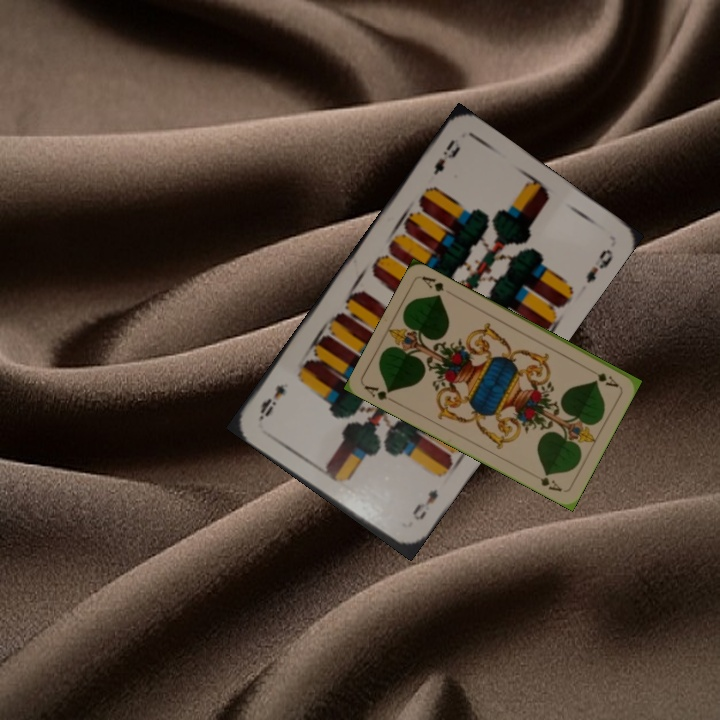E9: (428, 135, 463, 178), (408, 484, 441, 523)
GA: (584, 364, 621, 390), (361, 381, 398, 406)
